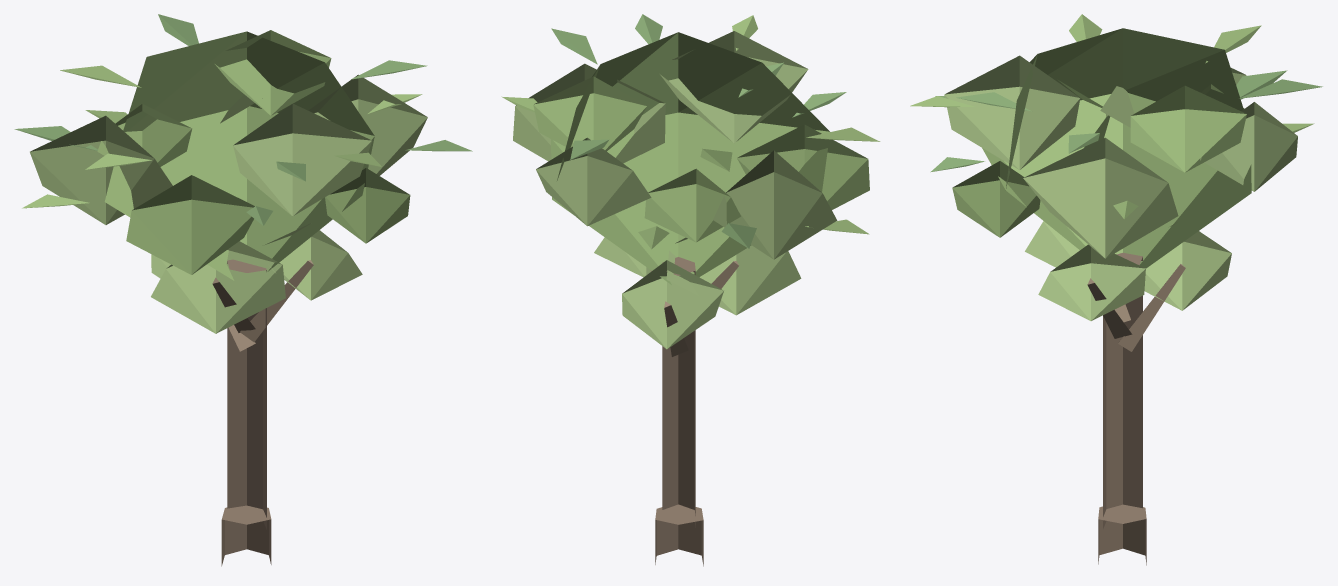
Rendered from shu.paotong@subadult__bloom.glb.
3 renders of one model, left to right at view 1: azimuth 30°, elevation 25°; view 2: azimuth 150°, elevation 25°; view 3: azimuth 270°, elevation 25°, orthographic.
Visible parts, largest first — view 1: shu.paotong@subadult__bloom; view 2: shu.paotong@subadult__bloom; view 3: shu.paotong@subadult__bloom.
Part boxes in pixels (left/top/right/bottom): shu.paotong@subadult__bloom: left=14, top=14, right=472, bottom=566; shu.paotong@subadult__bloom: left=501, top=14, right=880, bottom=566; shu.paotong@subadult__bloom: left=910, top=14, right=1322, bottom=565.
Size of the model in its own units: 7.14 by 9.11 by 6.54.
